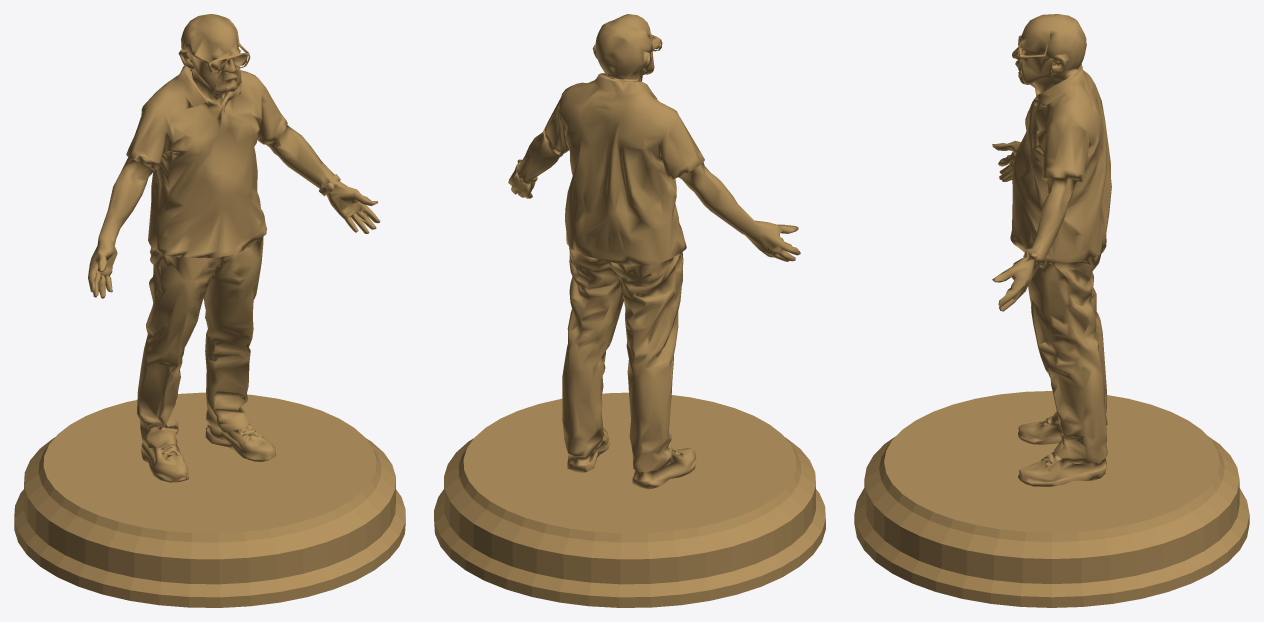
Rendered from statuetta.glb.
3 views of the same model, side by side, from view 1: azimuth 30°, elevation 25°; view 2: azimuth 150°, elevation 25°; view 3: azimuth 270°, elevation 25° (orthographic).
Size of the model in its own units: 0.4 by 0.5699 by 0.4.
